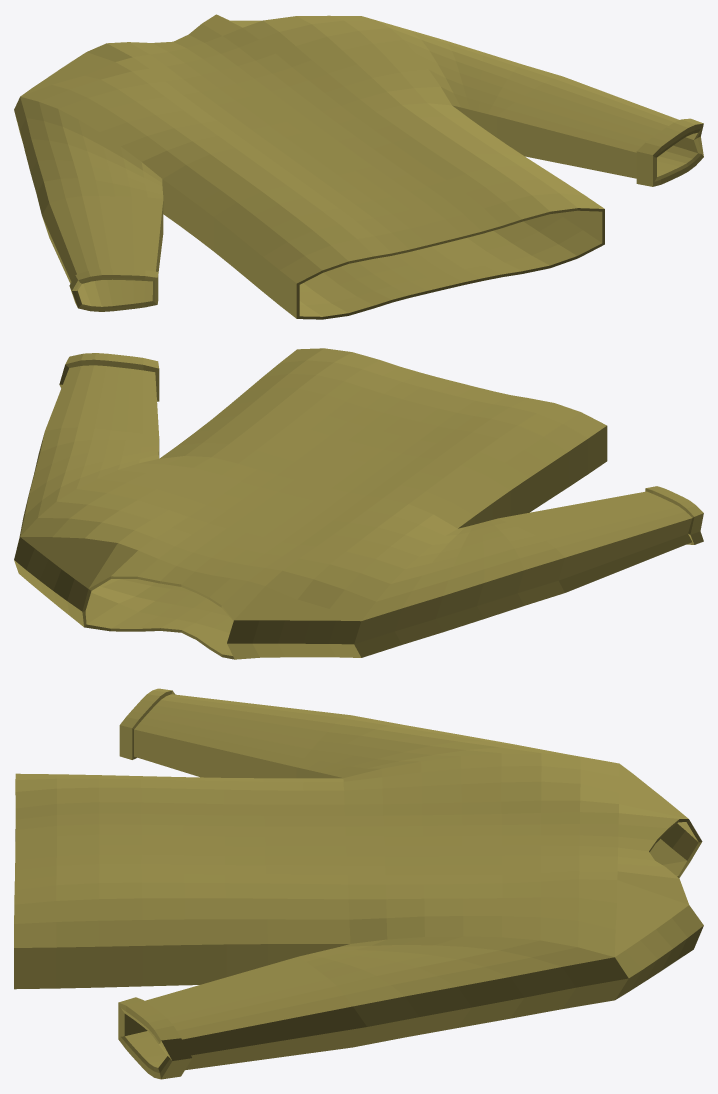
File: Shirt 5.fbx
The picture shows the model from 3 angles, top to bottom: view 1: azimuth 30°, elevation 25°; view 2: azimuth 150°, elevation 25°; view 3: azimuth 270°, elevation 25°; orthographic projection. The views are drawn at different scales.
Parts seen in each view (by area): view 1: Node 0; view 2: Node 0; view 3: Node 0.
Part boxes in pixels (box(x1,y1,x2,y2)): Node 0: box(14, 14, 703, 319); Node 0: box(14, 348, 703, 659); Node 0: box(14, 688, 703, 1079).
Size of the model in its own units: 1.07 by 0.1419 by 1.31.
